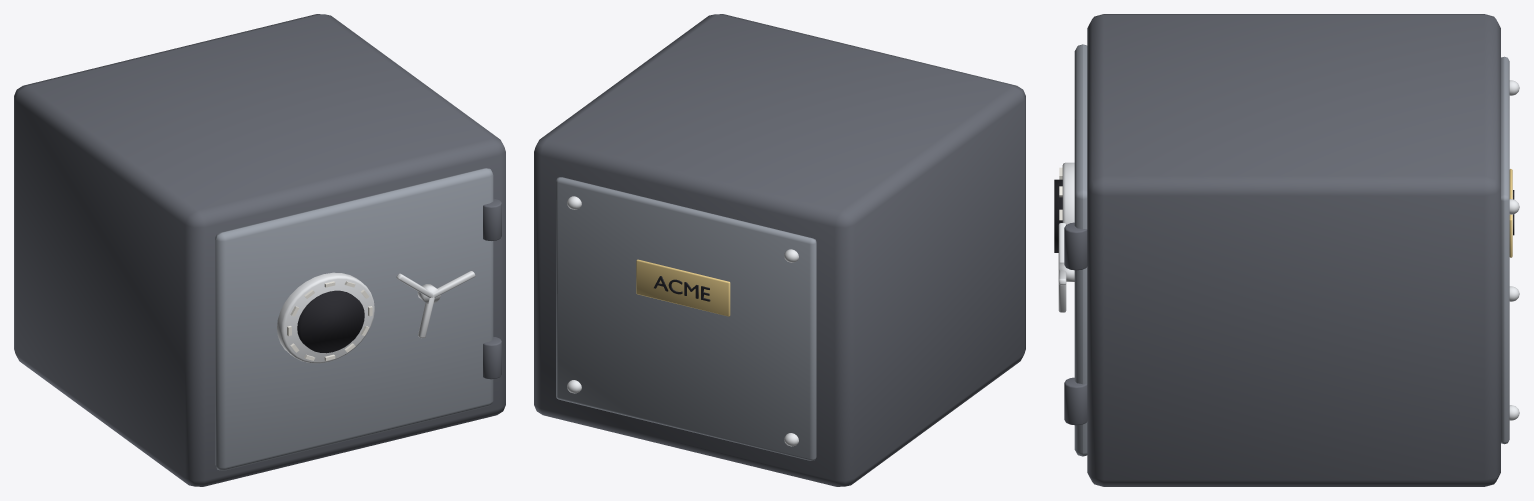
Rendered from safe.glb.
3 views of the same model, side by side, from view 1: azimuth 30°, elevation 25°; view 2: azimuth 150°, elevation 25°; view 3: azimuth 270°, elevation 25° (orthographic). The views are drawn at different scales.
Parts seen in each view (by area): view 1: Cube, Cube.001, Cone.001, Cone, Cone.003, Cone.004; view 2: Cube, Cube.017, Cube.018; view 3: Cube, Cube.001, Cube.017, Cone.003, Cone.004, Cone.
Part boxes in pixels (box(x1,y1,x2,y2)): Cube: box(14, 14, 505, 486); Cube.001: box(215, 168, 493, 470); Cone.001: box(297, 290, 364, 353); Cone: box(277, 272, 374, 363); Cone.003: box(483, 336, 501, 379); Cone.004: box(483, 198, 501, 240); Cube: box(534, 14, 1025, 486); Cube.017: box(556, 177, 816, 460); Cube.018: box(636, 259, 730, 316); Cube: box(1087, 14, 1500, 486); Cube.001: box(1074, 44, 1087, 456); Cube.017: box(1501, 56, 1509, 444); Cone.003: box(1064, 377, 1087, 425); Cone.004: box(1064, 222, 1087, 270); Cone: box(1062, 162, 1074, 224).
Bounding box in the file's own units: 75 × 62 × 84.4.
